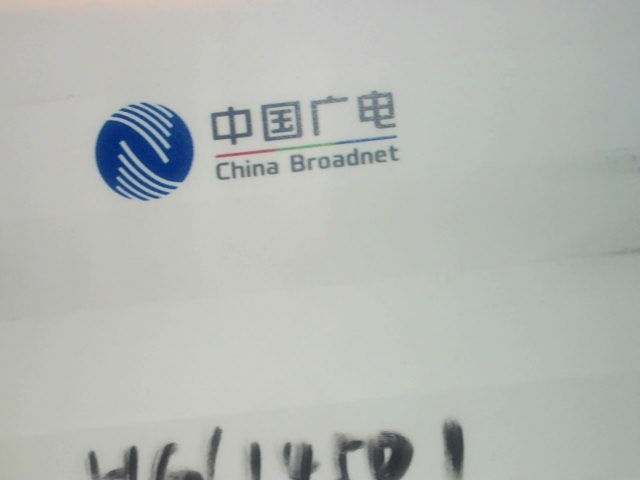AW_ChinaBroadNet: (87, 86, 416, 205)
